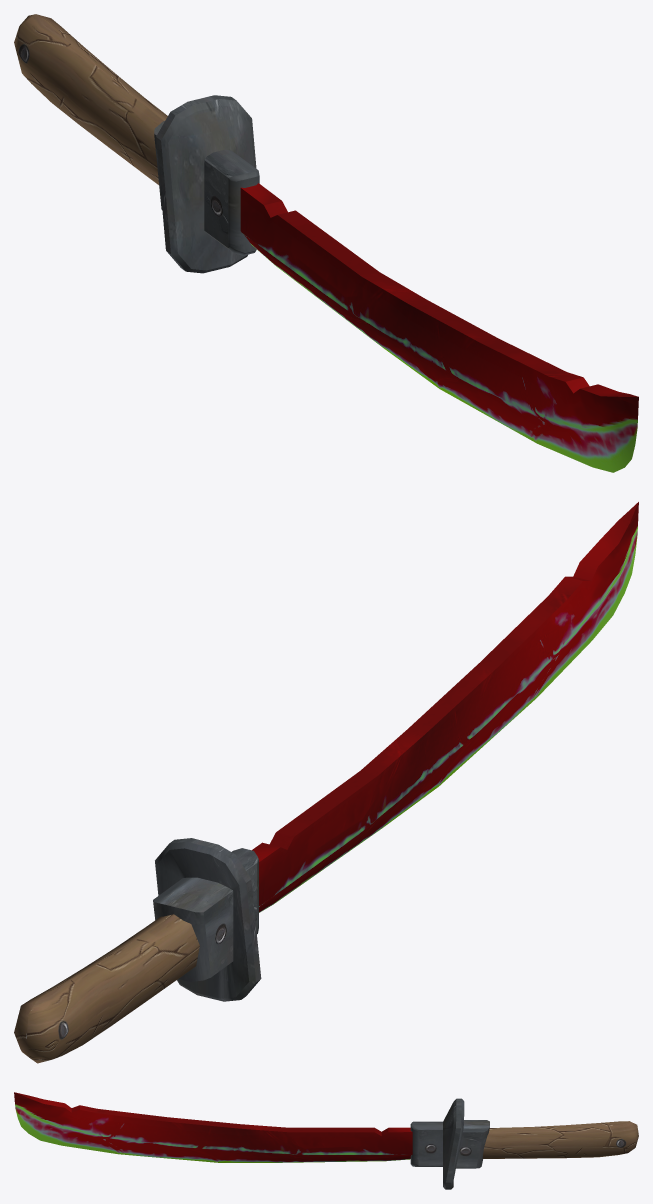
Rendered from Sword 1.fbx.
3 views of the same model, one above another, from view 1: azimuth 30°, elevation 25°; view 2: azimuth 150°, elevation 25°; view 3: azimuth 270°, elevation 25° (orthographic). The views are drawn at different scales.
Parts seen in each view (by area): view 1: Sword2; view 2: Sword2; view 3: Sword2.
Part boxes in pixels (<box>): Sword2: <box>14,14,638,472</box>; Sword2: <box>14,502,638,1063</box>; Sword2: <box>14,1092,638,1189</box>.
Size of the model in its own units: 1.27 by 2.42 by 14.72.
Materials: 1 (1 with a texture image).
